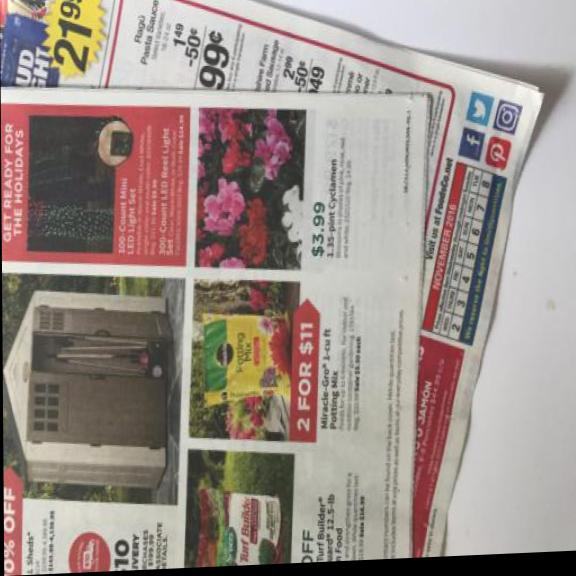Kertas: (1, 0, 552, 570)
